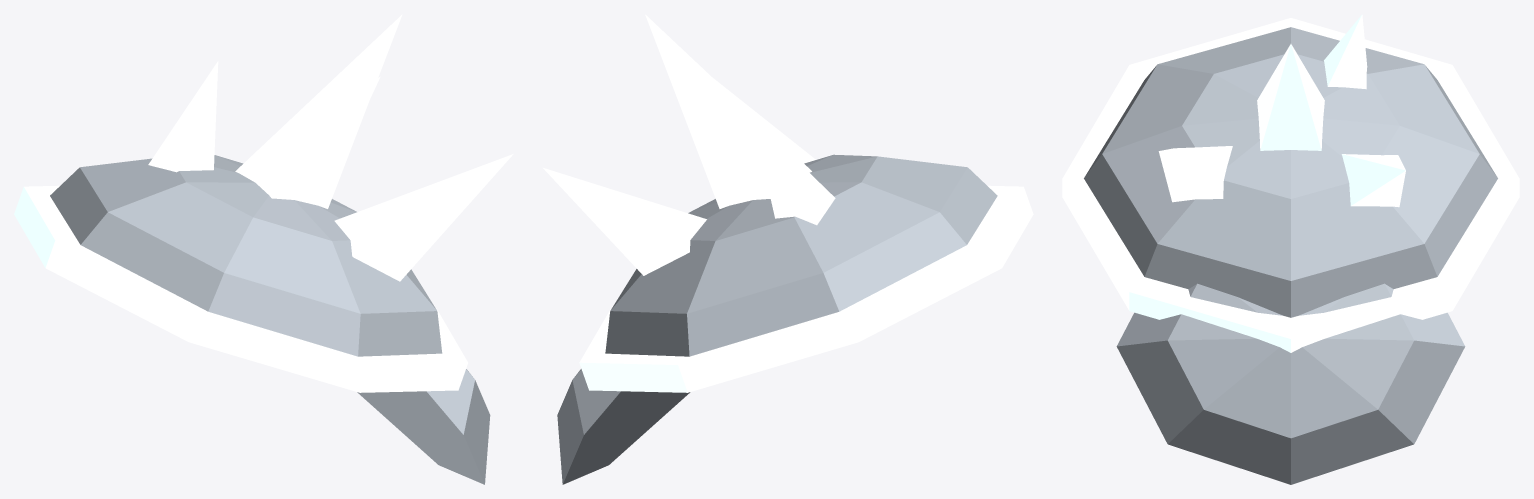
The model's file is Armor_Ice_Pauldron_L.fbx.
3 views of the same model, side by side, from view 1: azimuth 30°, elevation 25°; view 2: azimuth 150°, elevation 25°; view 3: azimuth 270°, elevation 25° (orthographic). The views are drawn at different scales.
Visible parts, largest first — view 1: Armor_Ice_Pauldron_L; view 2: Armor_Ice_Pauldron_L; view 3: Armor_Ice_Pauldron_L.
Boxes of the visible parts, box(x1,y1,x2,y2) form: Armor_Ice_Pauldron_L: box(14, 14, 513, 484); Armor_Ice_Pauldron_L: box(543, 14, 1033, 484); Armor_Ice_Pauldron_L: box(1062, 14, 1519, 484).
Bounding box in the file's own units: 0.2523 × 0.2692 × 0.2621.
